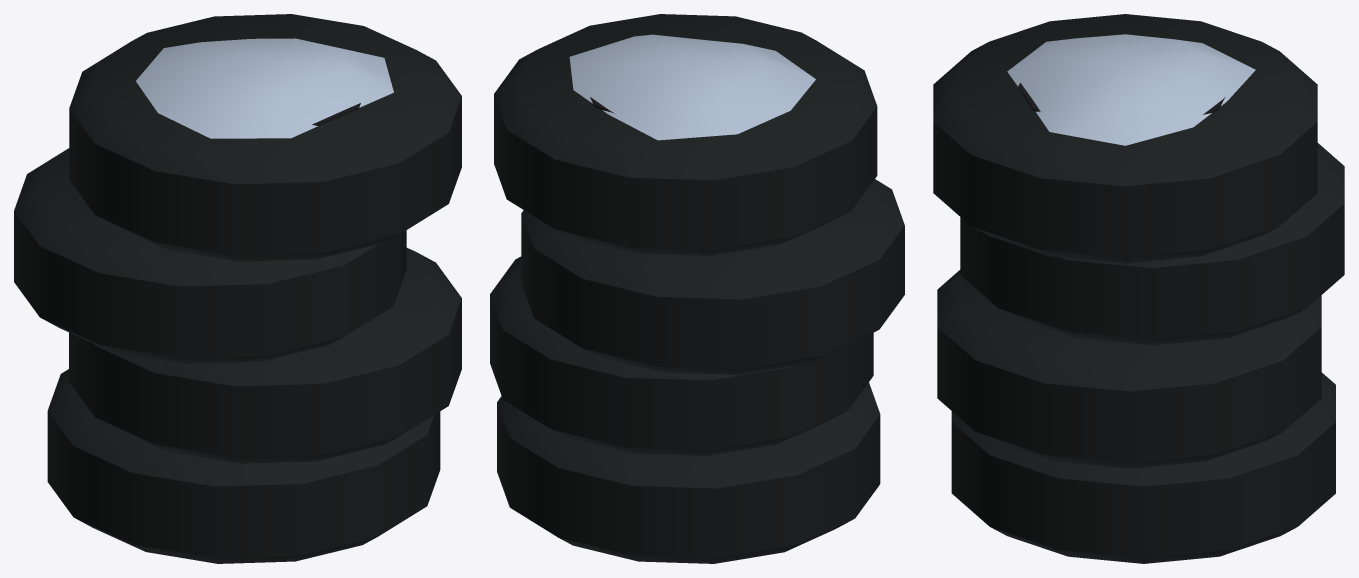
The model's file is tire_stack.glb.
3 views of the same model, side by side, from view 1: azimuth 30°, elevation 25°; view 2: azimuth 150°, elevation 25°; view 3: azimuth 270°, elevation 25° (orthographic). The views are drawn at different scales.
Parts seen in each view (by area): view 1: Prop; view 2: Prop; view 3: Prop.
Part boxes in pixels (x1,y1,x2,y2): Prop: (14, 14, 461, 563); Prop: (490, 14, 904, 563); Prop: (933, 14, 1344, 563).
Size of the model in its own units: 0.7895 by 0.85 by 0.7304.
